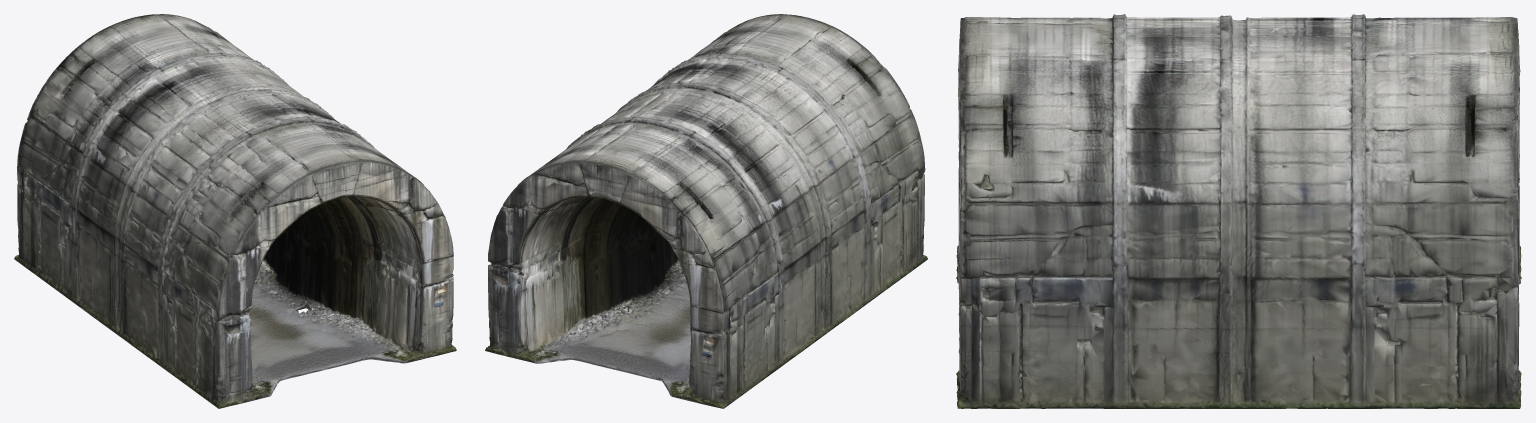
The model's file is tunnel_mouth.glb.
The picture shows the model from 3 angles, left to right: view 1: azimuth 30°, elevation 25°; view 2: azimuth 150°, elevation 25°; view 3: azimuth 270°, elevation 25°; orthographic projection. The views are drawn at different scales.
Parts seen in each view (by area): view 1: tunnel_mouth; view 2: tunnel_mouth; view 3: tunnel_mouth.
Part boxes in pixels (<box>): tunnel_mouth: <box>14,14,456,408</box>; tunnel_mouth: <box>485,14,927,408</box>; tunnel_mouth: <box>956,14,1521,408</box>.
Bounding box in the file's own units: 1.27 × 1.1 × 1.9.
1 material, 1 textured.
